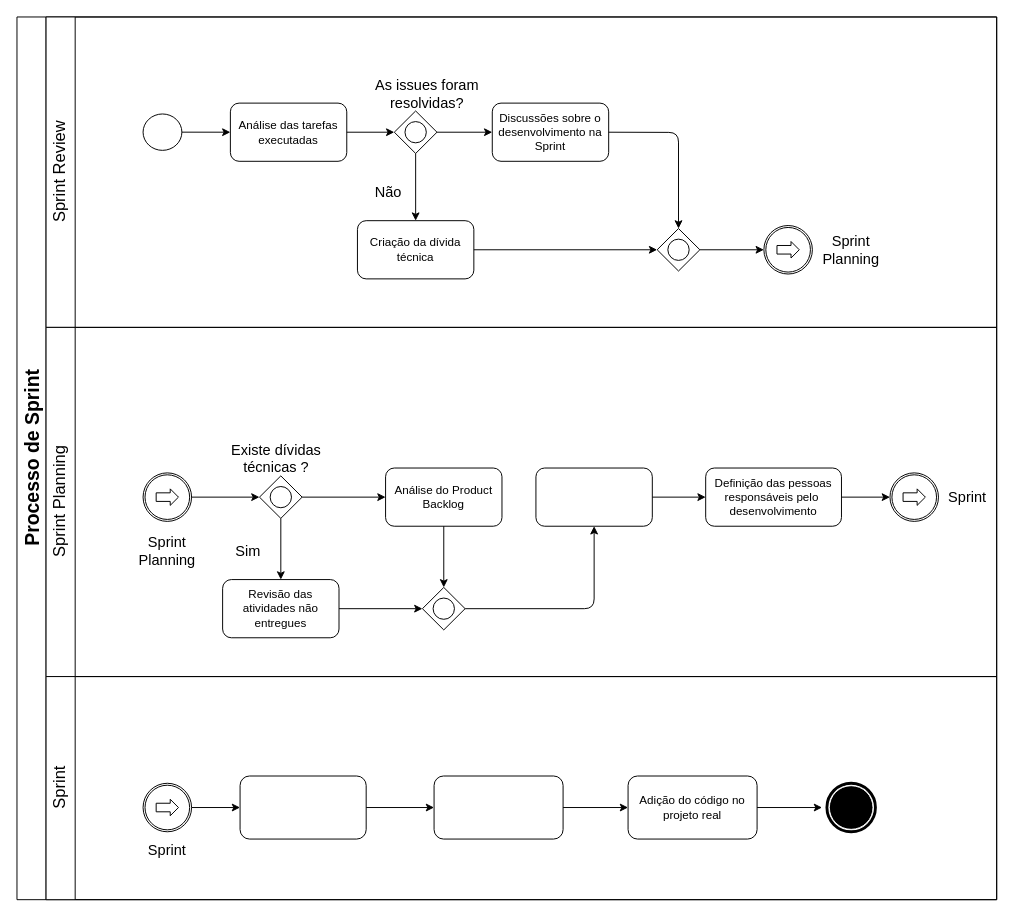
The diagram is 1014 pixels wide and 917 high, and some of its shapes have lost their labels. Here are the shapes that lost their labels. From the top down, the centre of each, then its label:
pixel 593 496: Definição das tarefas das Sprint
pixel 302 807: Desemvolvimento de uma parte do projeto
pixel 498 807: Aceitação pelos desenvolvedores as alterações feitas
